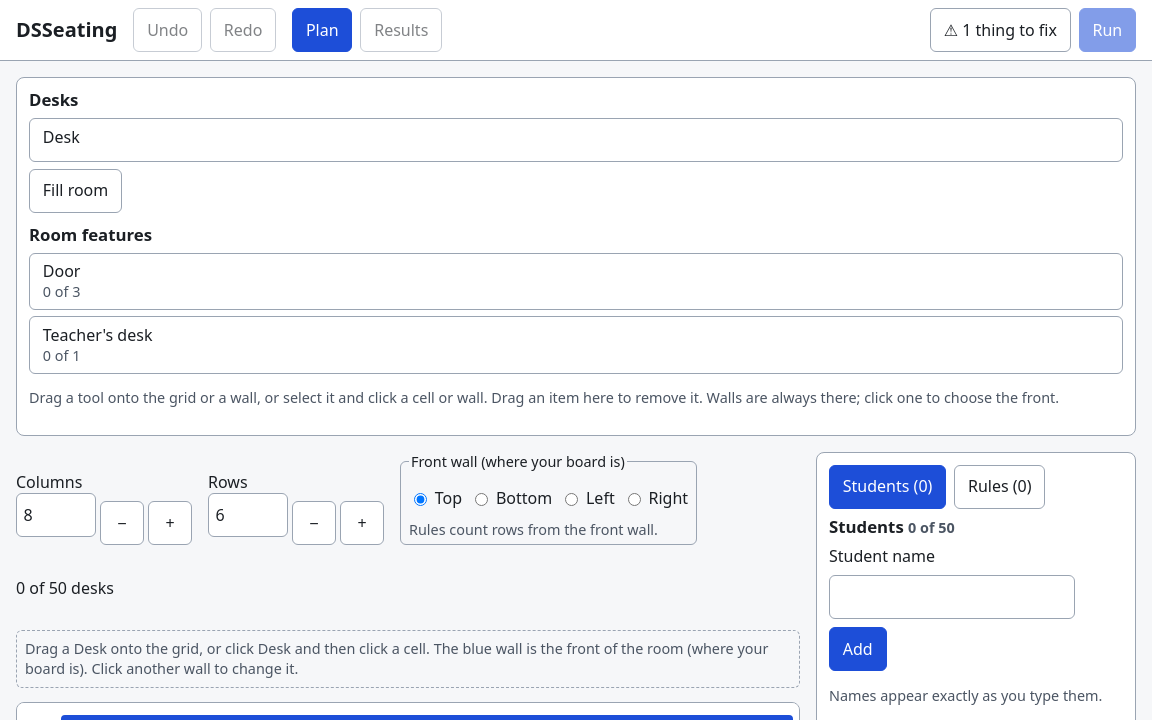
Test: Plan mode › shows what blocks Run and explains it when Run is pressed
Click the button "Run".
click(1107, 30)  # box [1079, 8, 1136, 52]
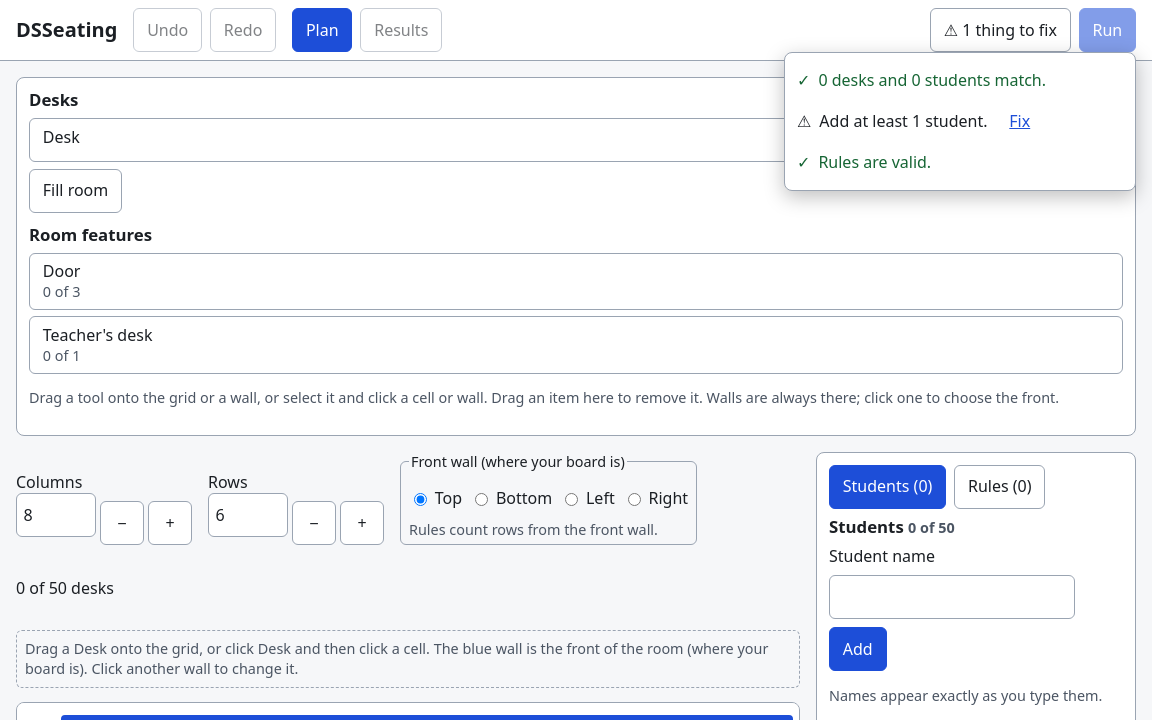
Now the text "Add at least 1 student." is shown, box [819, 110, 988, 133]
